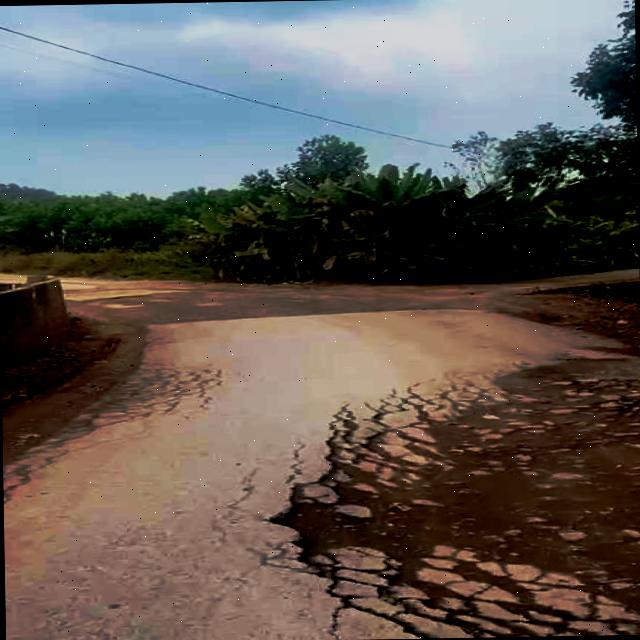pothole: (268, 349, 640, 640)
